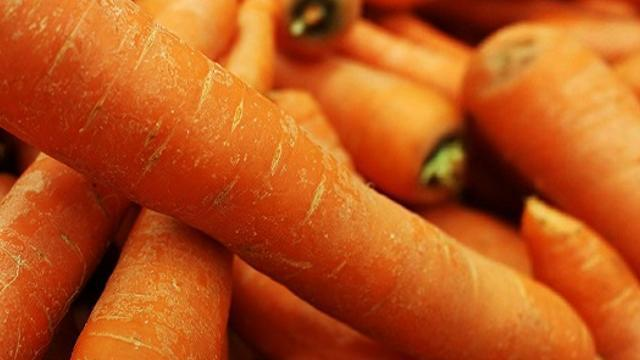carrot: (1, 0, 606, 358), (3, 154, 240, 360), (249, 3, 474, 198), (447, 21, 640, 246)
